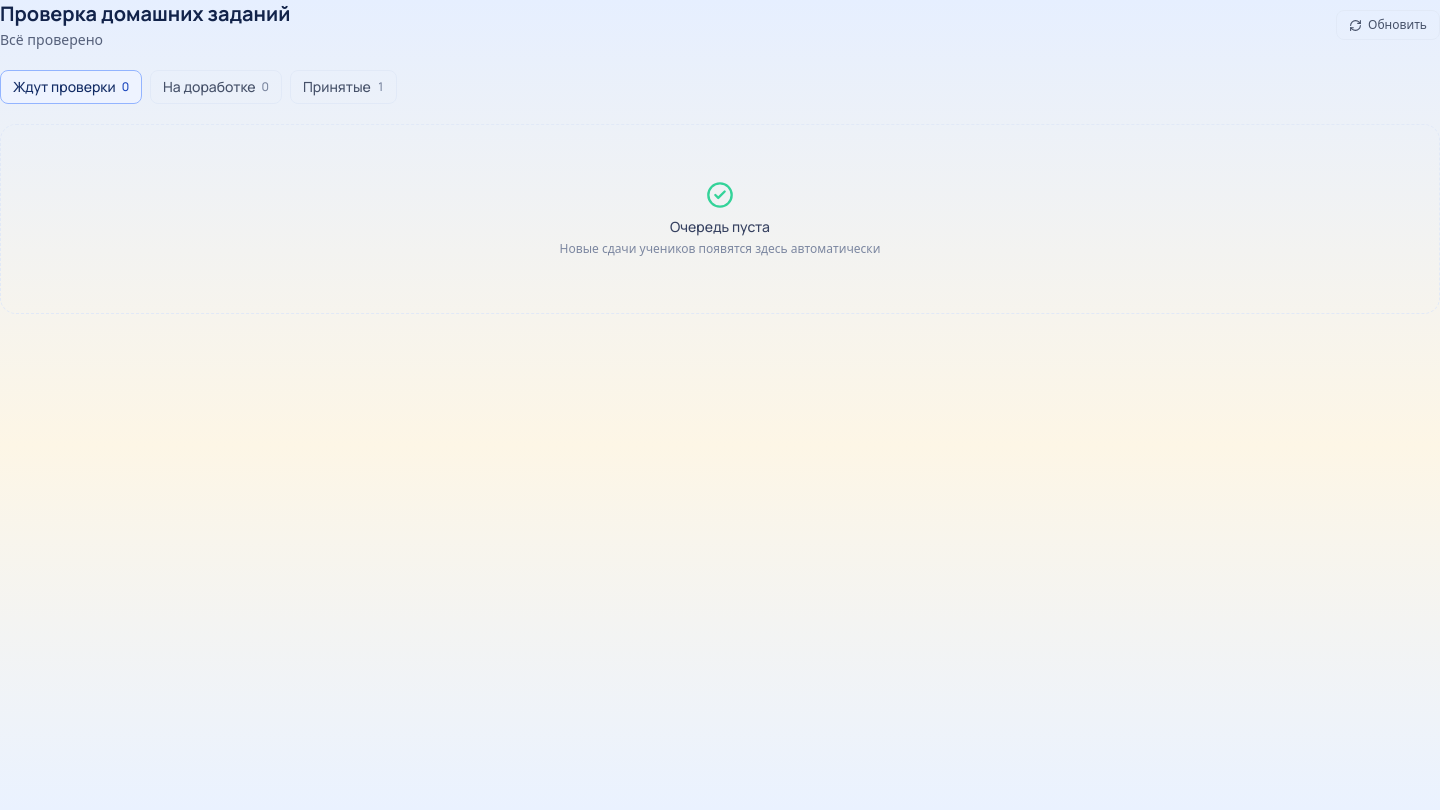
Test: HomeworkReviewQueuePage — вкладки состояний › прошлые попытки — история внутри работы, а не строки вкладок
Check: the tab with test id "queue-tab-accepted" reads "Принятые 1", box [290,70,397,104]
Click the tab with test id "queue-tab-returned_for_revision" at {"x": 216, "y": 87}, box [150,70,282,104]
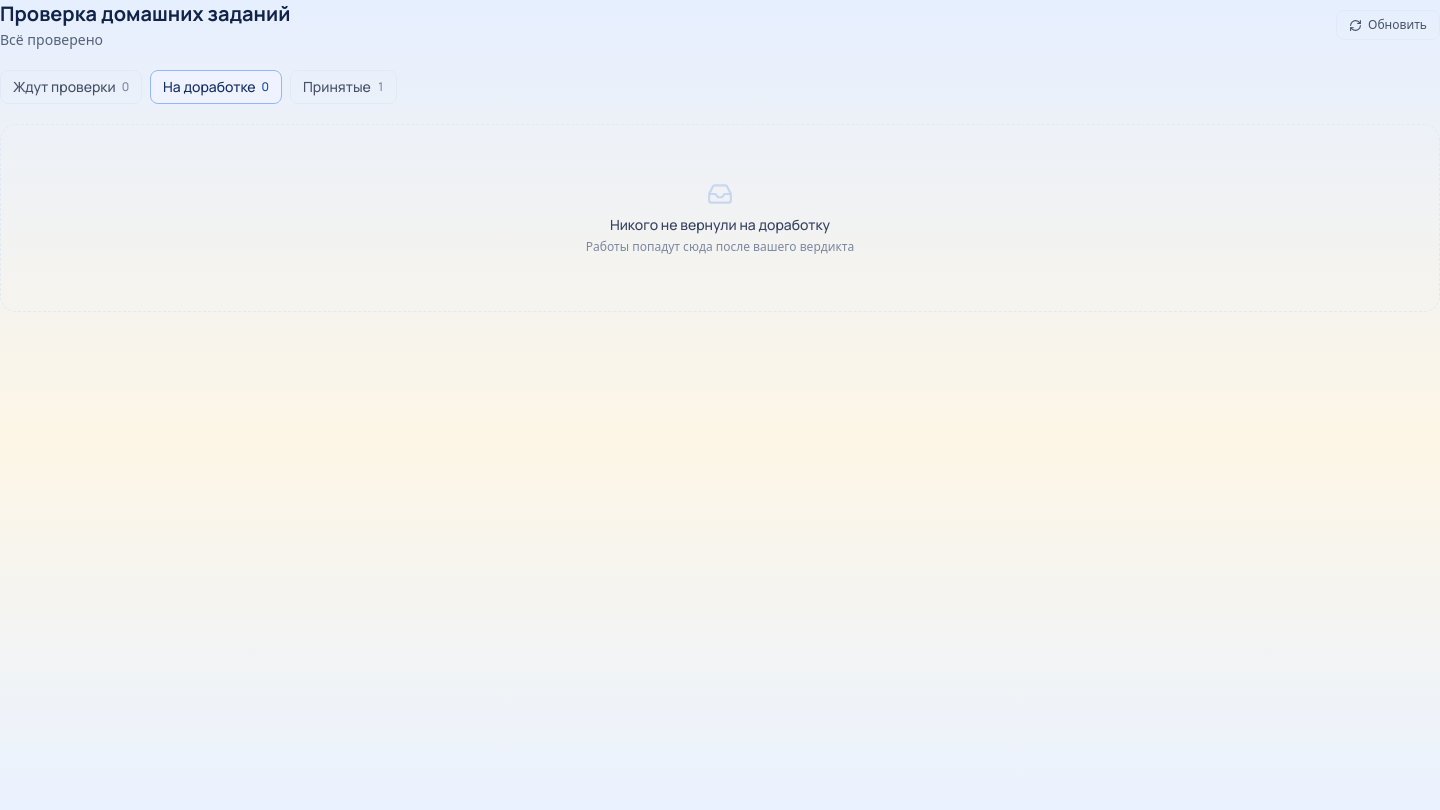
Click the tab with test id "queue-tab-accepted" at {"x": 344, "y": 87}, box [290,70,397,104]
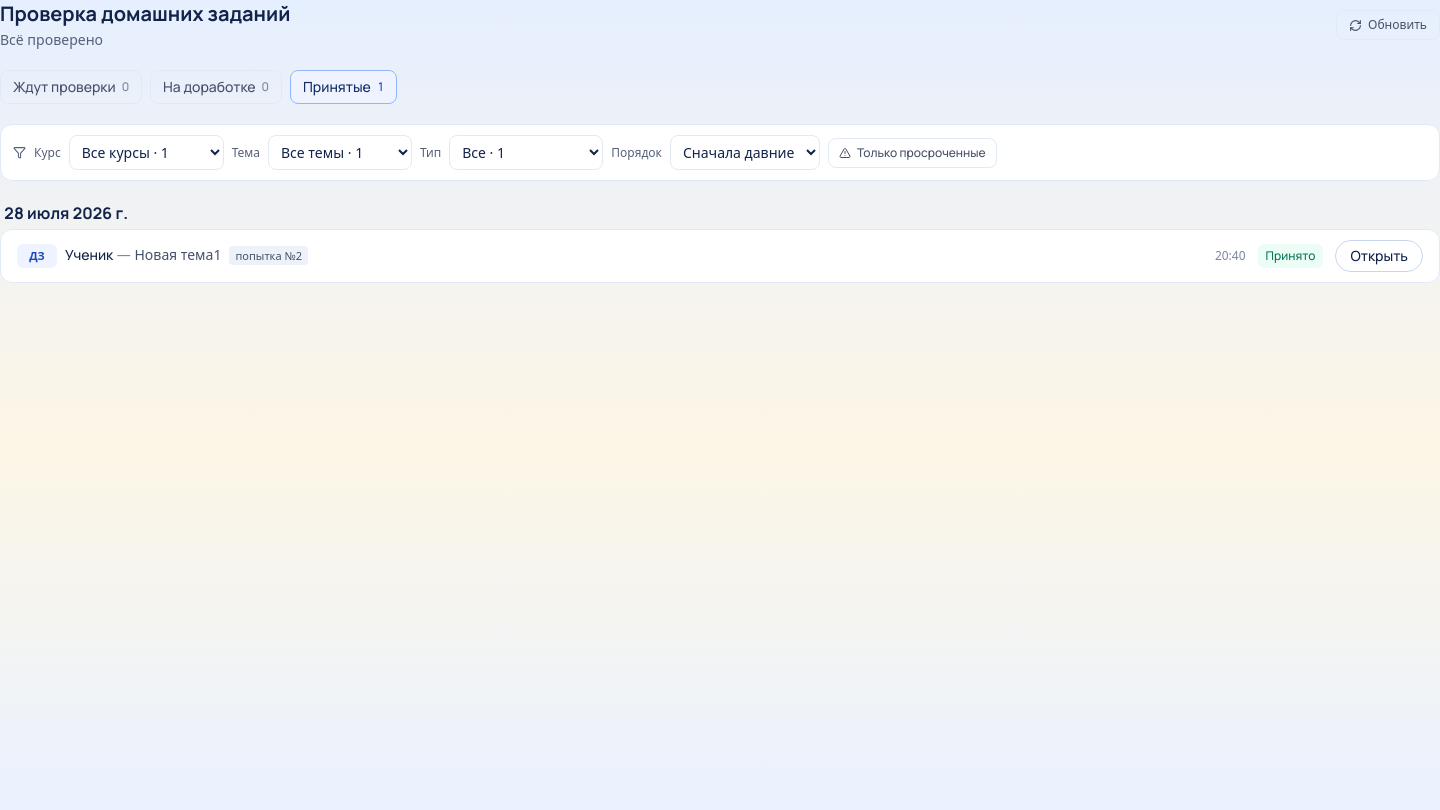
Click the button "Открыть" at {"x": 1379, "y": 256}, box [1335,240,1423,272]
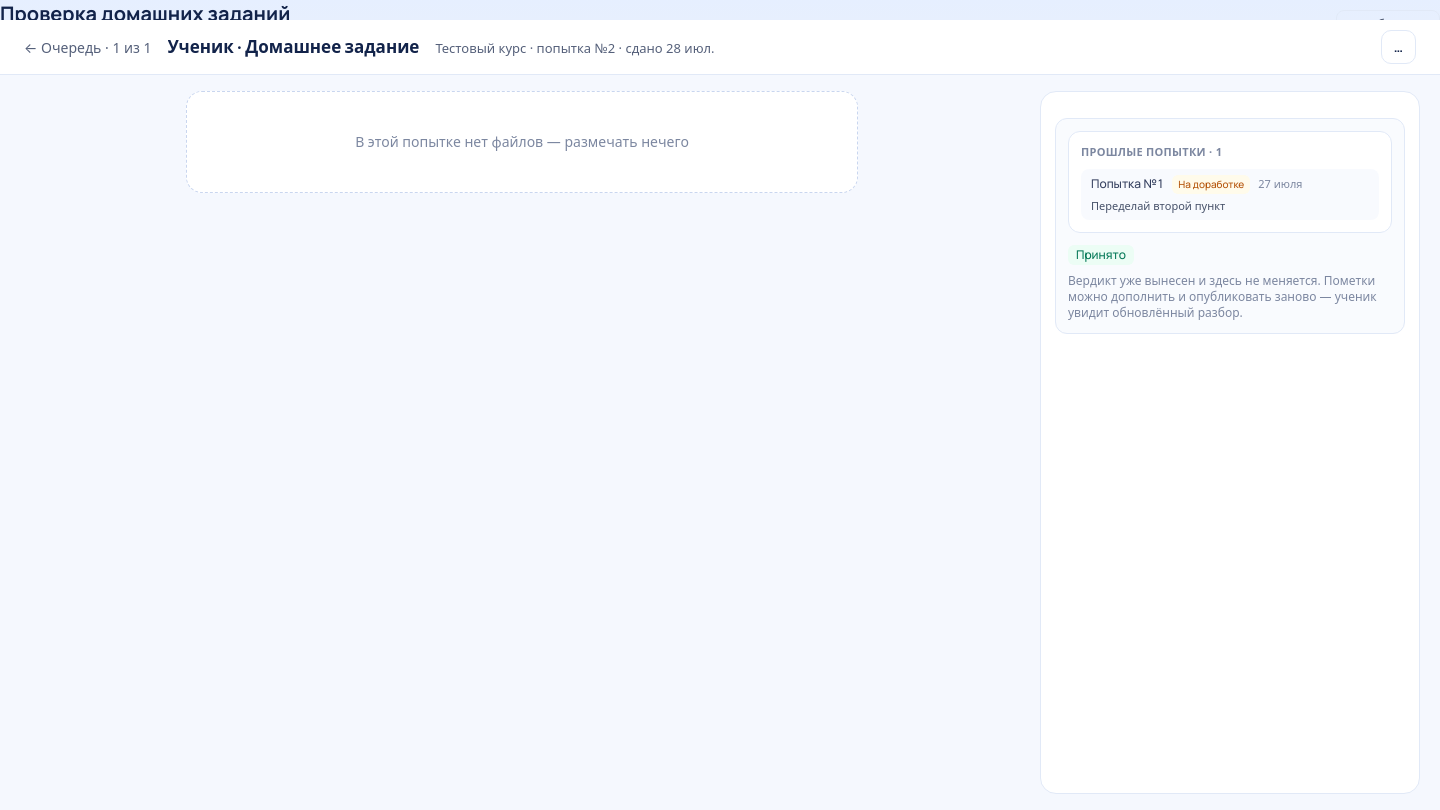
Check: the element with test id "queue-attempt-history" shows "Попытка №1", box [1068,131,1392,233]
Check: the element with test id "queue-attempt-history" shows "На доработке", box [1178,176,1244,190]
Check: the element with test id "queue-attempt-history" shows "Переделай второй пункт", box [1091,198,1225,212]
